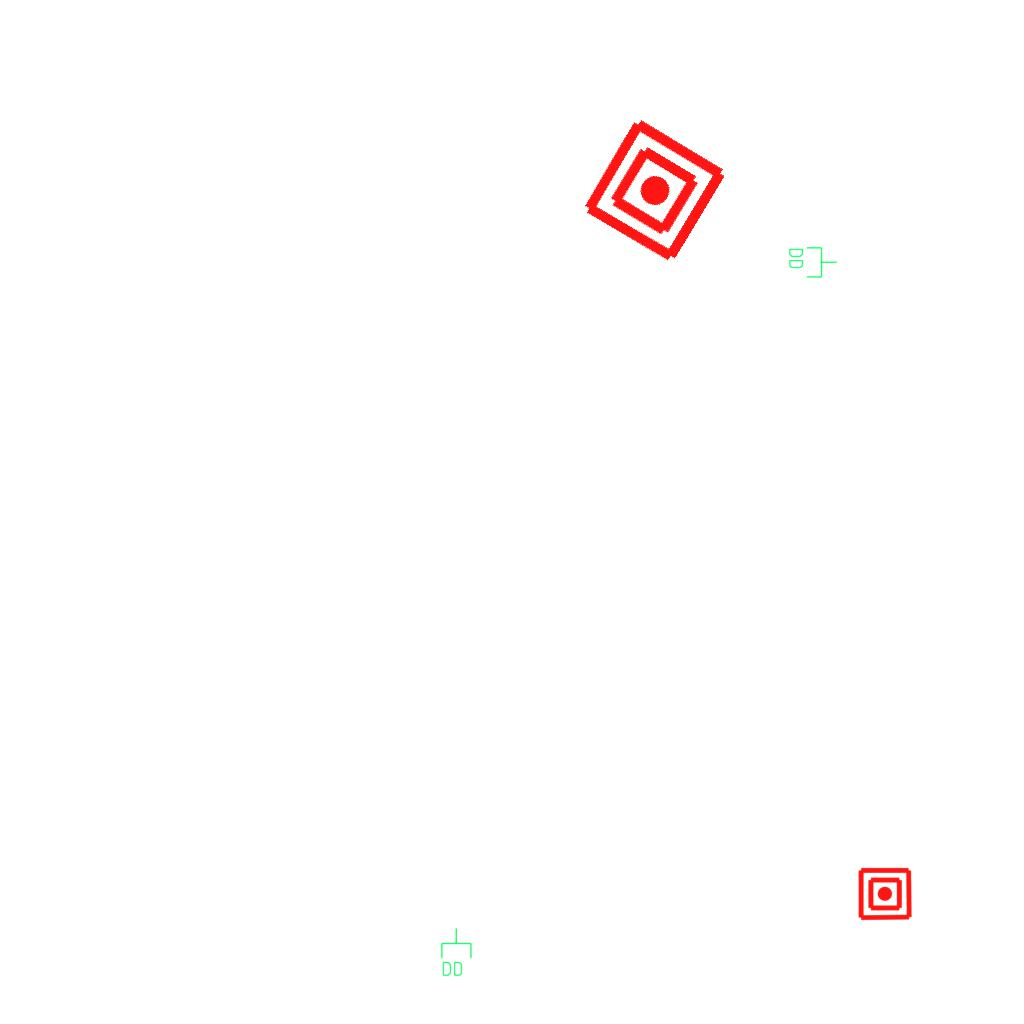Datenanschluss_zweifach: (787, 245, 838, 279), (439, 927, 473, 978)
NAM-Nichtautomatischer_Melder: (576, 112, 733, 269), (857, 866, 913, 922)
